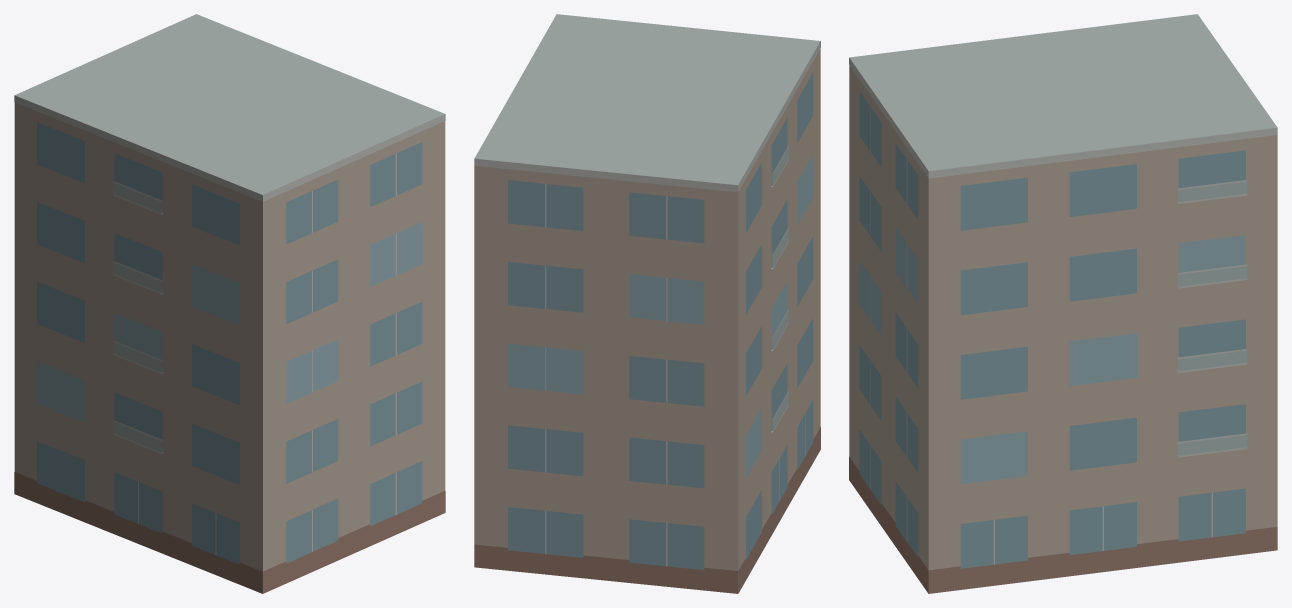
Rendered from survey-upis-32852288.glb.
3 renders of one model, left to right at view 1: azimuth 30°, elevation 25°; view 2: azimuth 150°, elevation 25°; view 3: azimuth 270°, elevation 25°, orthographic. The views are drawn at different scales.
Visible parts, largest first — view 1: survey-upis-32852288.tmp; view 2: survey-upis-32852288.tmp; view 3: survey-upis-32852288.tmp.
Boxes of the visible parts, x1,y1,x2,y2 form: survey-upis-32852288.tmp: [14, 14, 445, 593]; survey-upis-32852288.tmp: [474, 14, 820, 593]; survey-upis-32852288.tmp: [849, 14, 1277, 593].
Size of the model in its own units: 11.33 by 14.18 by 13.04.
